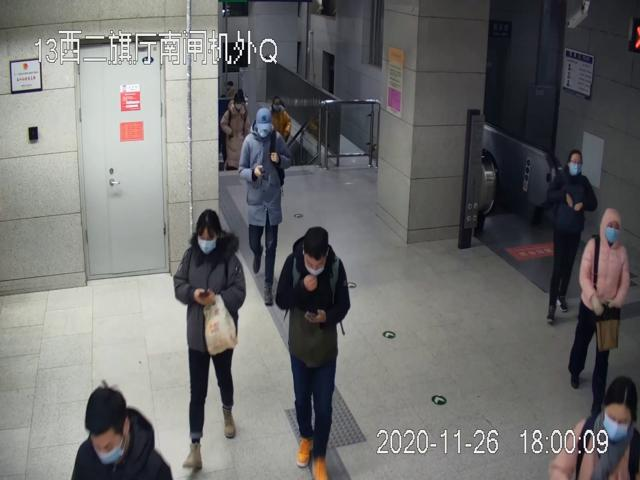person: (275, 226, 351, 480), (173, 208, 247, 468), (569, 207, 629, 406), (240, 108, 291, 307), (544, 148, 598, 320), (543, 148, 597, 320)
